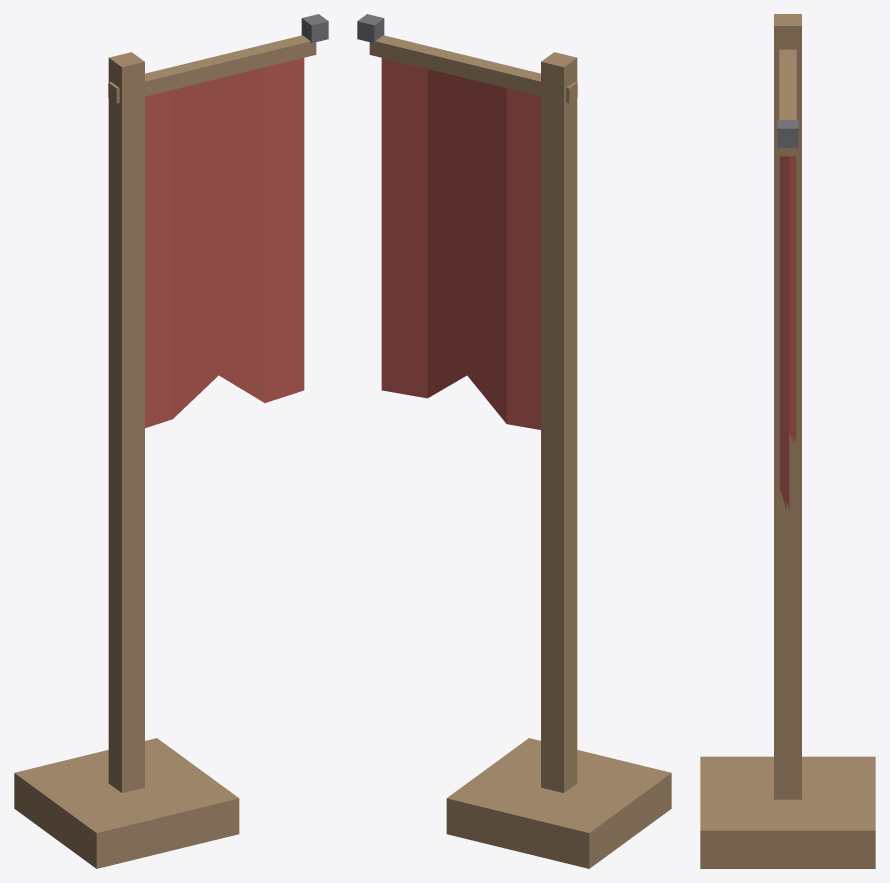
File: prop-banner-hang-pole.fbx
The picture shows the model from 3 angles, left to right: view 1: azimuth 30°, elevation 25°; view 2: azimuth 150°, elevation 25°; view 3: azimuth 270°, elevation 25°; orthographic projection. The views are drawn at different scales.
Parts seen in each view (by area): view 1: prop-banner-hang-pole; view 2: prop-banner-hang-pole; view 3: prop-banner-hang-pole.
Boxes of the visible parts, x1,y1,x2,y2 form: prop-banner-hang-pole: (14,14,328,868); prop-banner-hang-pole: (357,14,671,868); prop-banner-hang-pole: (700,14,875,868).
Size of the model in its own units: 0.94 by 2.55 by 0.5.
